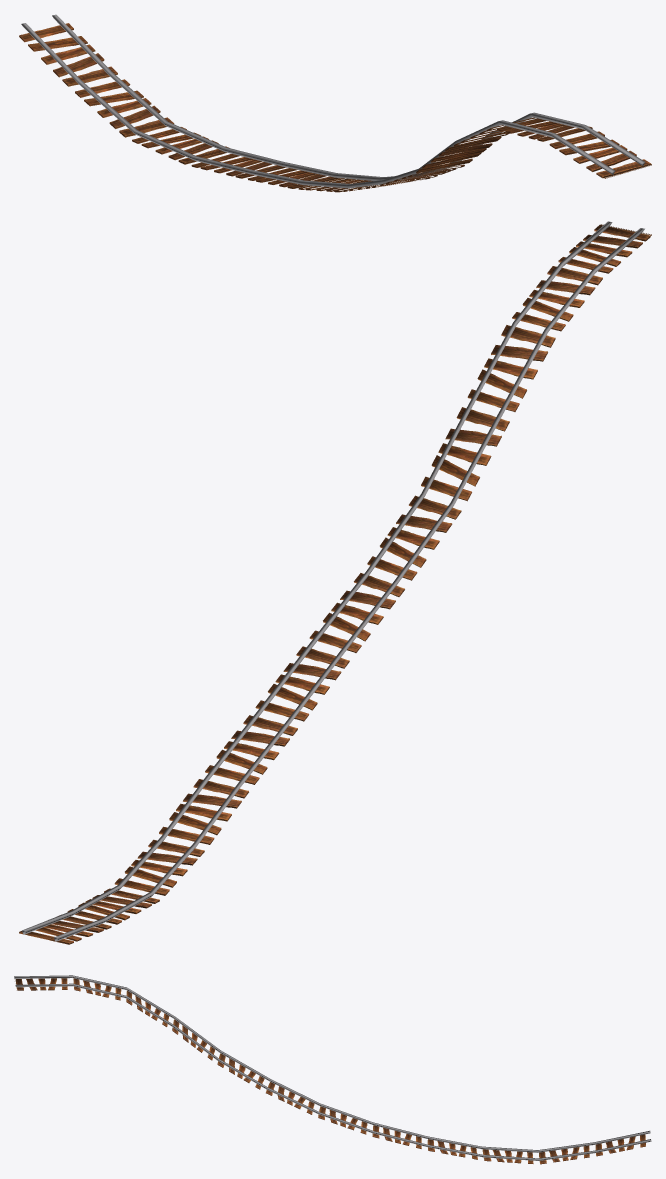
The model's file is SWORDLIGHT20_MAIN1RAILS1N EXT.fbx.
3 renders of one model, top to bottom at view 1: azimuth 30°, elevation 25°; view 2: azimuth 150°, elevation 25°; view 3: azimuth 270°, elevation 25°, orthographic. The views are drawn at different scales.
Parts seen in each view (by area): view 1: SWORDLIGHT20_MAIN1RAILS1N EXT; view 2: SWORDLIGHT20_MAIN1RAILS1N EXT; view 3: SWORDLIGHT20_MAIN1RAILS1N EXT.
Part boxes in pixels (box(x1,y1,x2,y2)): SWORDLIGHT20_MAIN1RAILS1N EXT: box(19, 14, 651, 192); SWORDLIGHT20_MAIN1RAILS1N EXT: box(19, 221, 651, 944); SWORDLIGHT20_MAIN1RAILS1N EXT: box(14, 975, 651, 1164).
Bounding box in the file's own units: 26408 × 100444 × 333275.
Materials: 2 (2 with a texture image).
